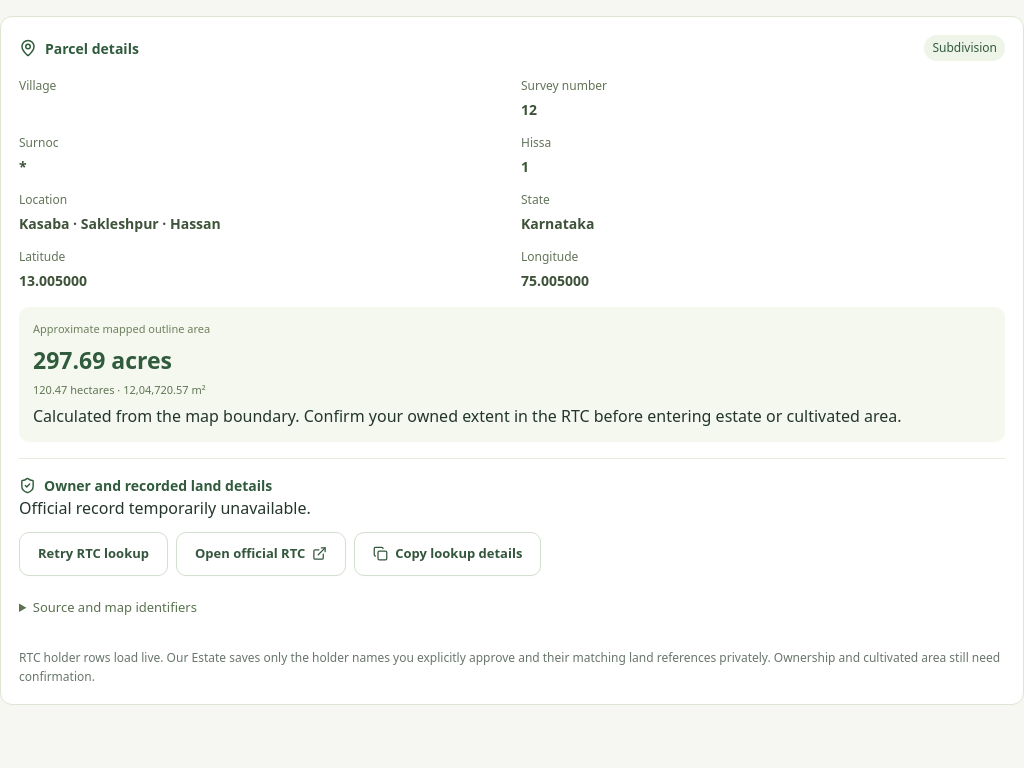
parcel detail panel › copies the exact survey, Surnoc, Hissa and official village identifiers
Click the button "Copy lookup details".
click(448, 554)  # box [354, 532, 541, 576]
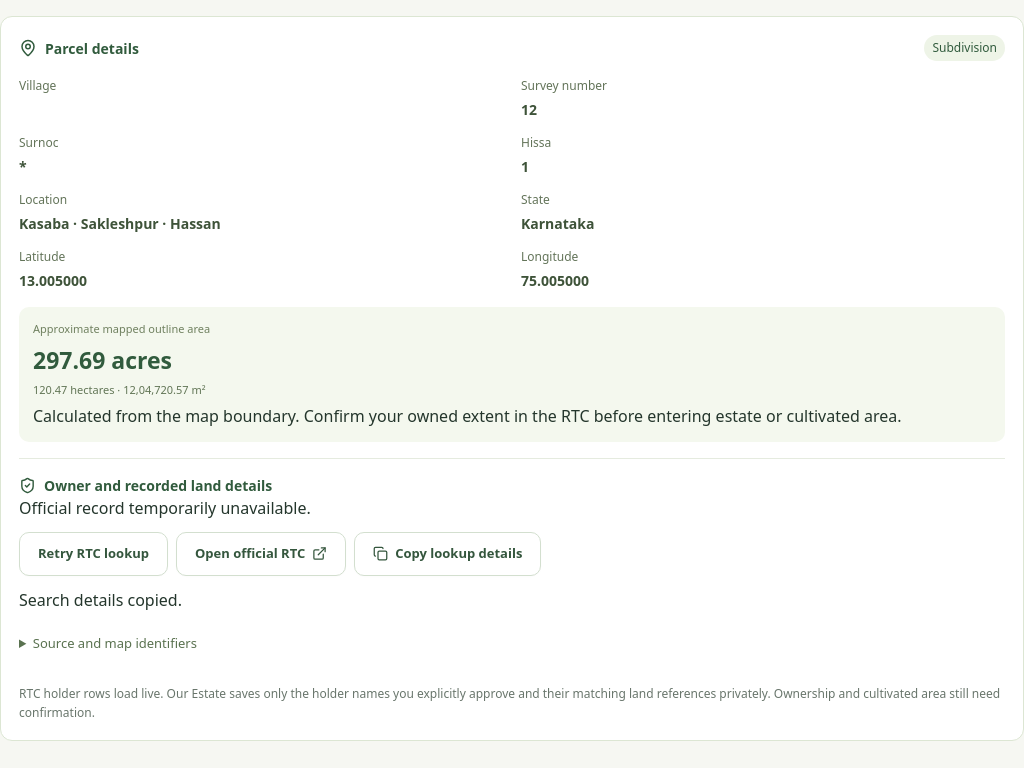
Check: the text "Search details copied." is shown, box [19, 588, 182, 610]
